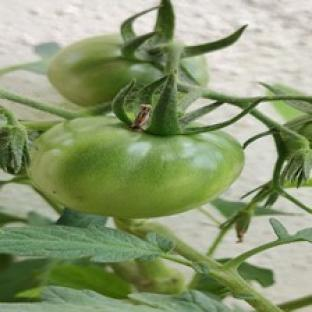Tomato: (28, 116, 243, 218), (48, 35, 162, 105)
